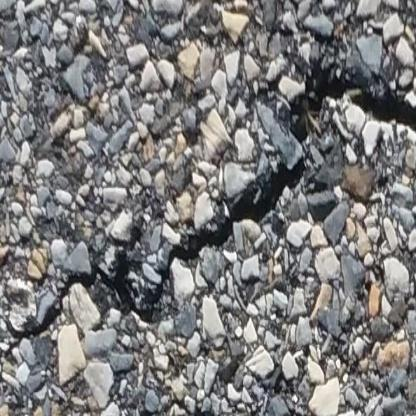Cracks: (25, 68, 416, 335)
